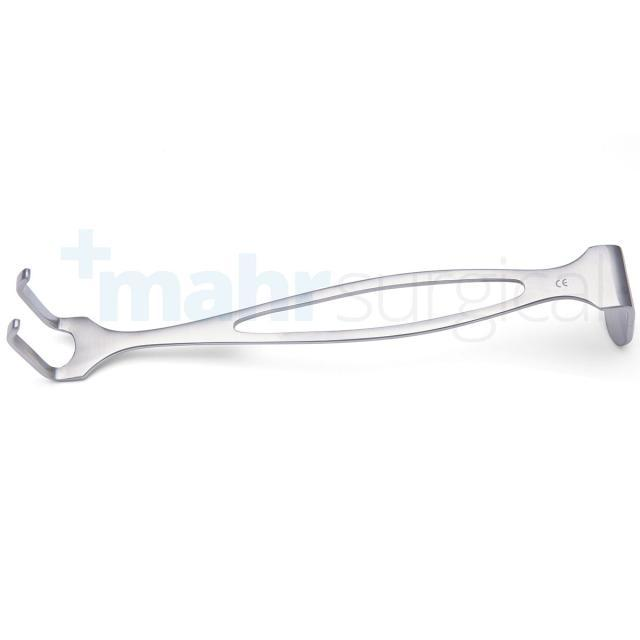Czerny Retractor: (2, 238, 634, 384)
